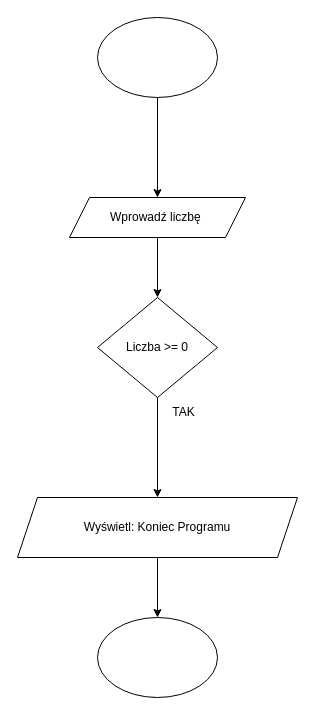
Some shapes in this 315 by 715 pixel diagram are drawn without their labels. The shapes that lost their labels are listed below. From the top down, each one's centre as x and y in pixels, then its label:
point 157,57: Start
point 157,657: STOP
